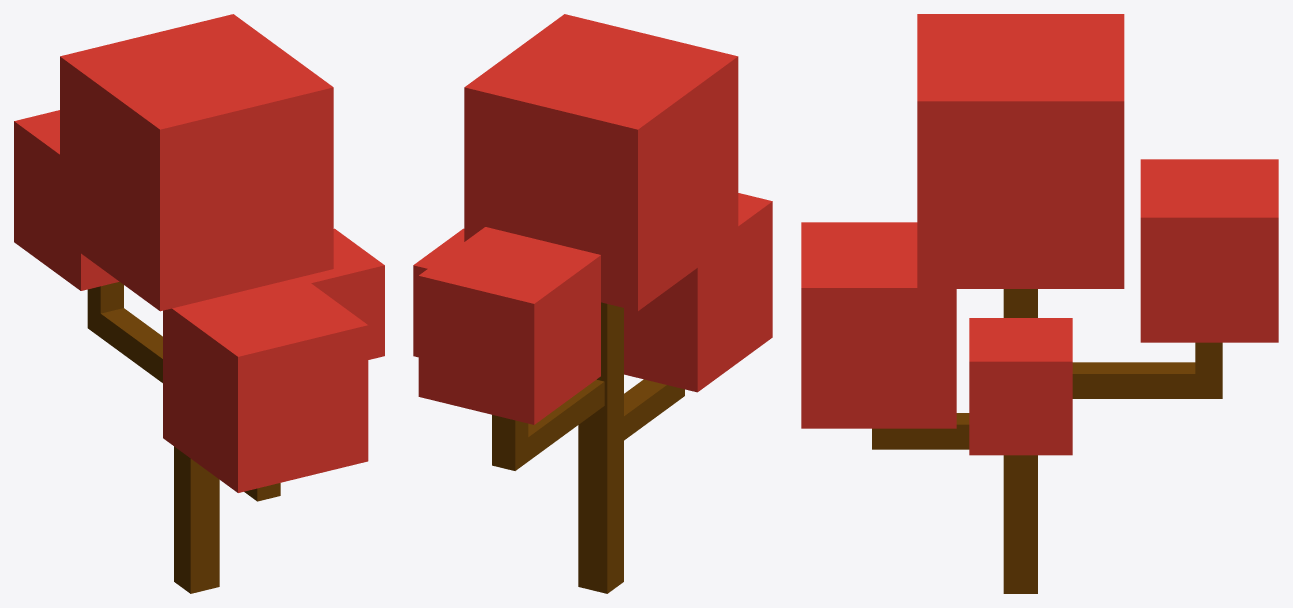
File: tree.fbx
The picture shows the model from 3 angles, left to right: view 1: azimuth 30°, elevation 25°; view 2: azimuth 150°, elevation 25°; view 3: azimuth 270°, elevation 25°; orthographic projection. The views are drawn at different scales.
Parts seen in each view (by area): view 1: tree; view 2: tree; view 3: tree.
Boxes of the visible parts, x1=… form: tree: x1=14, y1=14, x2=384, y2=593; tree: x1=413, y1=14, x2=772, y2=593; tree: x1=801, y1=14, x2=1278, y2=593.
Size of the model in its own units: 863 by 1693 by 1384.
